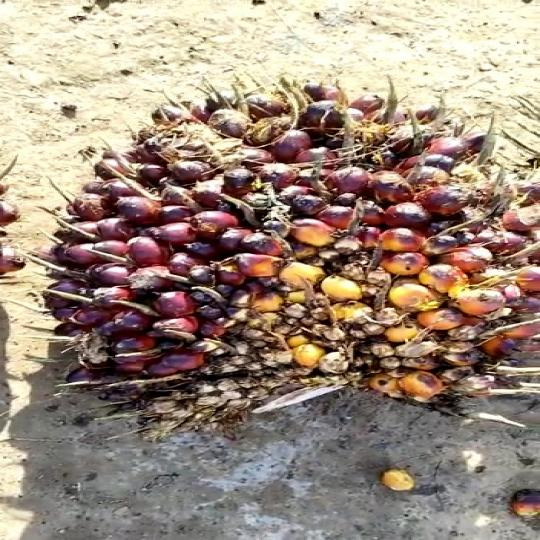kurang masak: (53, 63, 540, 431)
